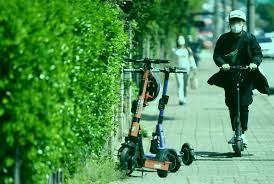helmet: (209, 8, 268, 158)
